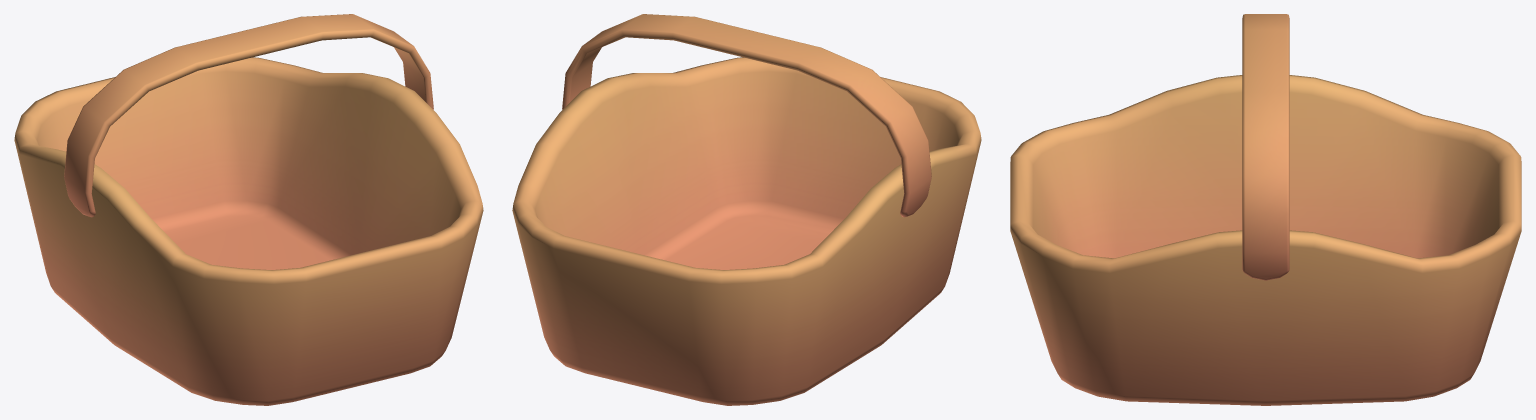
The model's file is basket_smile.fbx.
The picture shows the model from 3 angles, left to right: view 1: azimuth 30°, elevation 25°; view 2: azimuth 150°, elevation 25°; view 3: azimuth 270°, elevation 25°; orthographic projection.
Parts seen in each view (by area): view 1: Basket; view 2: Basket; view 3: Basket.
Part boxes in pixels (x1,y1,x2,y2): Basket: (14, 14, 483, 405); Basket: (512, 14, 981, 405); Basket: (1010, 14, 1521, 405).
Size of the model in its own units: 87.86 by 109 by 66.41.
